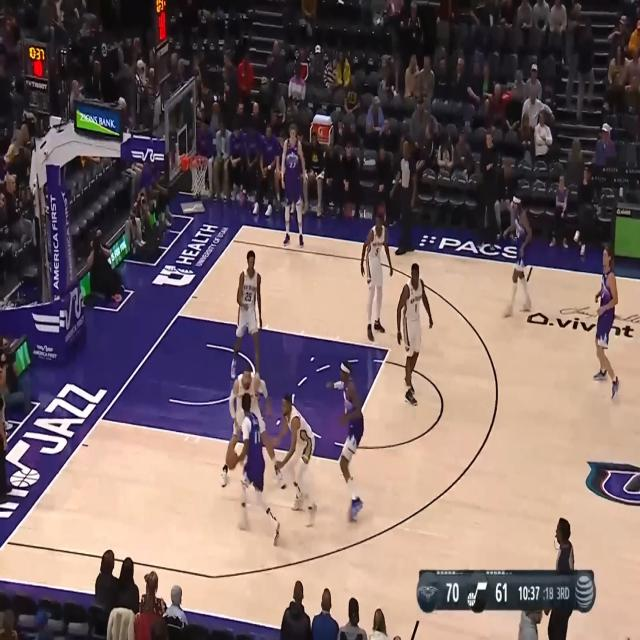Ball: (226, 446, 238, 472)
Period: (556, 583, 570, 603)
Player: (229, 390, 282, 546), (222, 365, 287, 490), (326, 360, 364, 520), (274, 390, 316, 532), (398, 261, 433, 410), (230, 249, 264, 388), (359, 209, 394, 343), (593, 243, 621, 401), (502, 192, 534, 316), (279, 122, 309, 246)
Ref: (545, 518, 575, 640), (391, 139, 416, 257), (0, 365, 15, 502)
Shot Clock: (543, 585, 554, 603)
Team Points: (445, 579, 460, 606), (496, 580, 508, 605)
Time Remaining: (518, 580, 540, 604)
